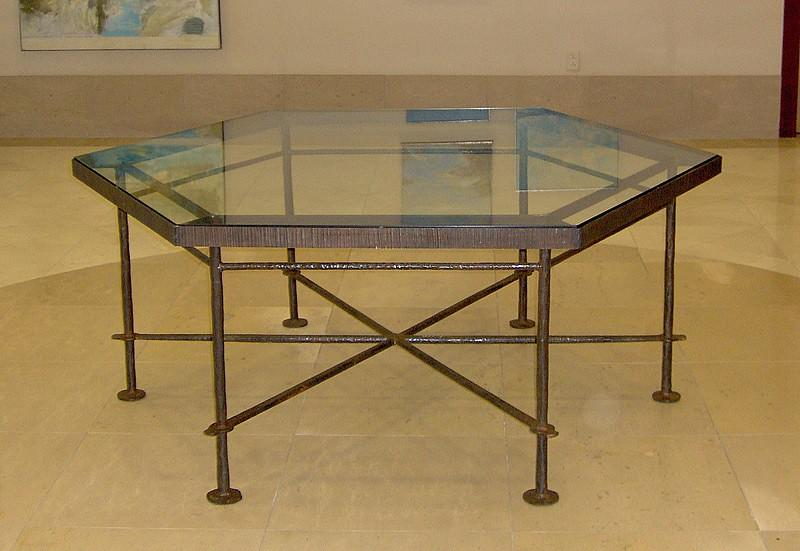table: (72, 105, 723, 507)
